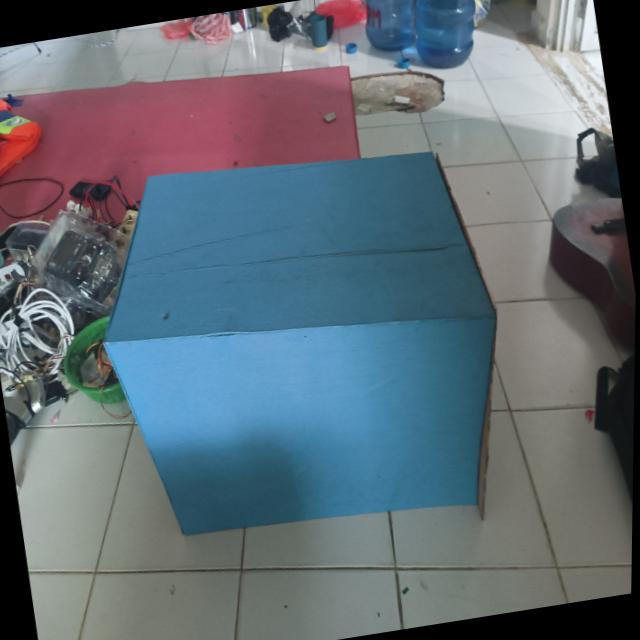blue_box: (71, 94, 556, 626)
